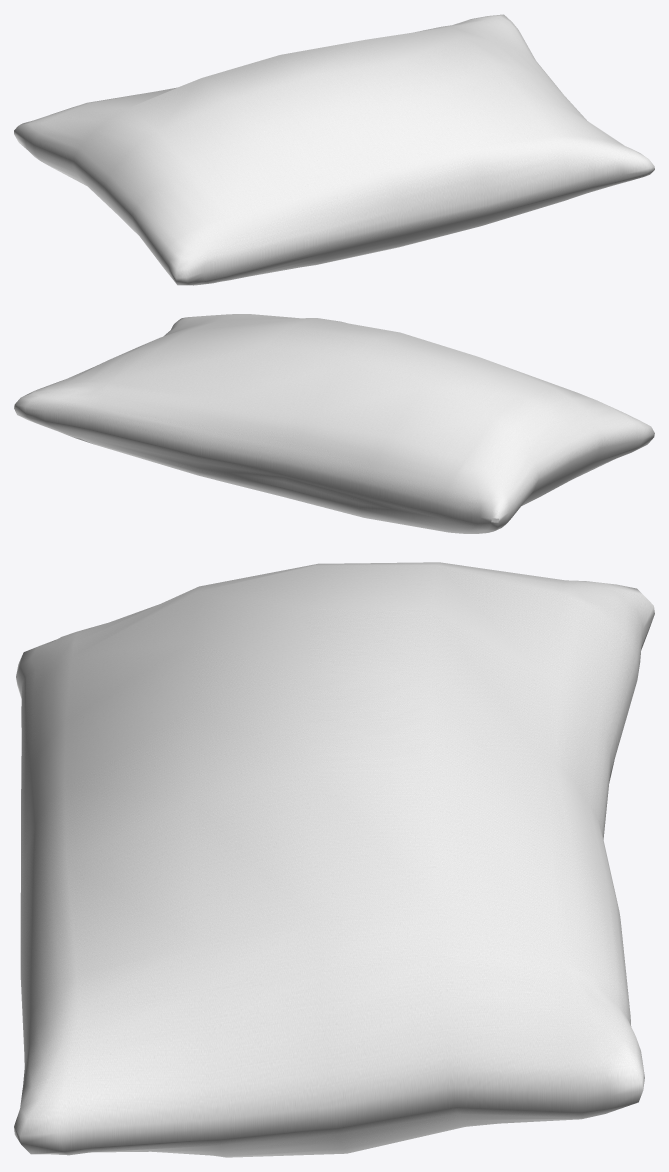
The model's file is Pillow 2.FBX.
3 views of the same model, one above another, from view 1: azimuth 30°, elevation 25°; view 2: azimuth 150°, elevation 25°; view 3: azimuth 270°, elevation 25° (orthographic). The views are drawn at different scales.
Parts seen in each view (by area): view 1: pillow 2; view 2: pillow 2; view 3: pillow 2.
Boxes of the visible parts, x1=… form: pillow 2: x1=14, y1=14, x2=654, y2=285; pillow 2: x1=14, y1=314, x2=654, y2=533; pillow 2: x1=14, y1=562, x2=654, y2=1157.
Size of the model in its own units: 59.47 by 17.56 by 34.12.
1 material, 1 textured.
